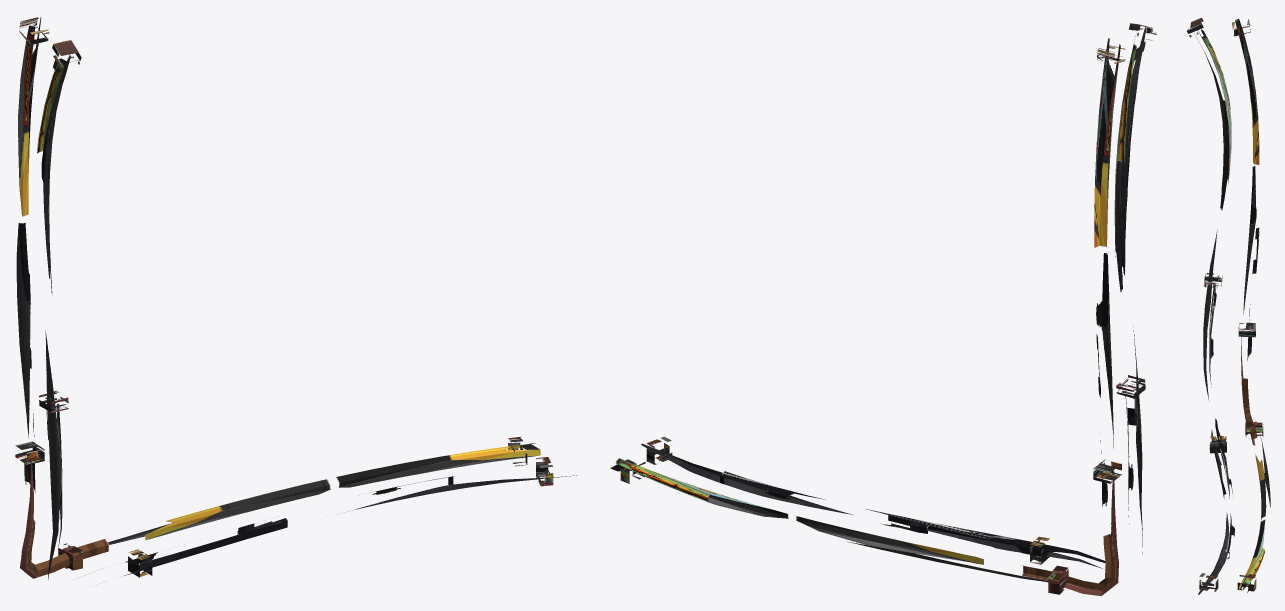
3 views of the same model, side by side, from view 1: azimuth 30°, elevation 25°; view 2: azimuth 150°, elevation 25°; view 3: azimuth 270°, elevation 25° (orthographic). The views are drawn at different scales.
Size of the model in its own units: 0.9622 by 0.9939 by 0.188.
